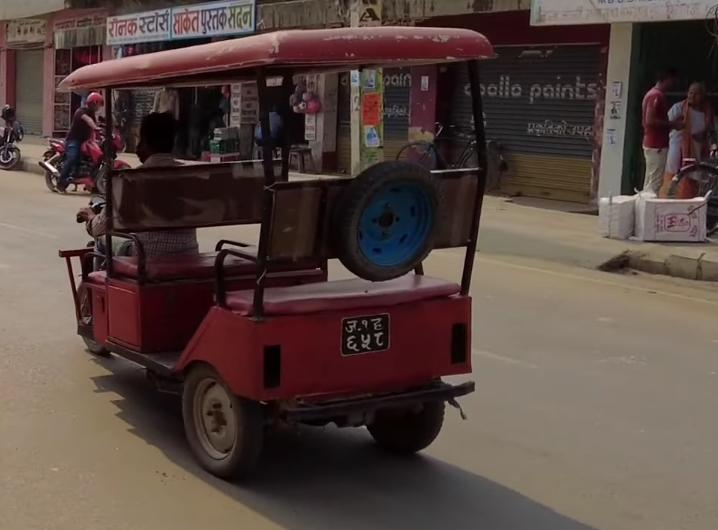bike: (44, 115, 133, 197), (0, 107, 25, 172)
e-rickshaw: (42, 23, 477, 482)
